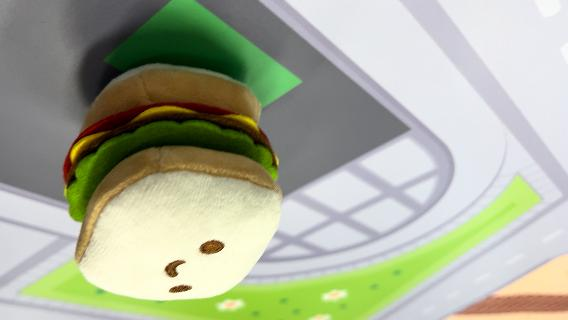sandwich: (60, 61, 286, 302)
